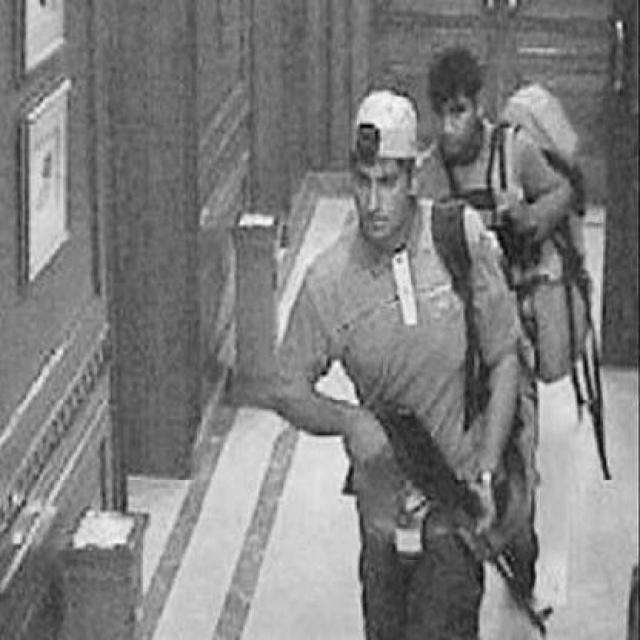weapon: (369, 394, 554, 638)
